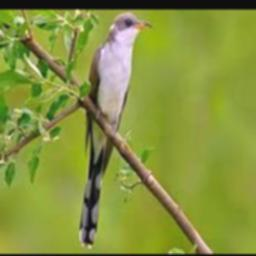Cuckoo: (78, 12, 152, 248)
